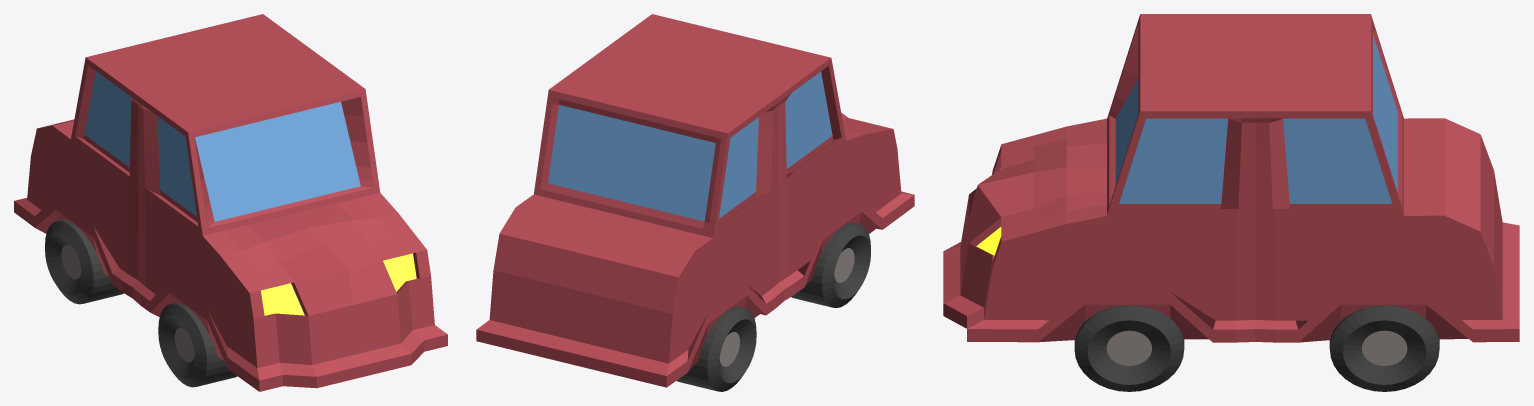
The model's file is ToyCar.fbx.
3 renders of one model, left to right at view 1: azimuth 30°, elevation 25°; view 2: azimuth 150°, elevation 25°; view 3: azimuth 270°, elevation 25°, orthographic. The views are drawn at different scales.
Parts seen in each view (by area): view 1: Cylinder.004; view 2: Cylinder.004; view 3: Cylinder.004.
Part boxes in pixels (x1,y1,x2,y2): Cylinder.004: (14, 14, 447, 391); Cylinder.004: (476, 14, 914, 391); Cylinder.004: (943, 14, 1519, 391).
Size of the model in its own units: 234 by 264 by 500.
